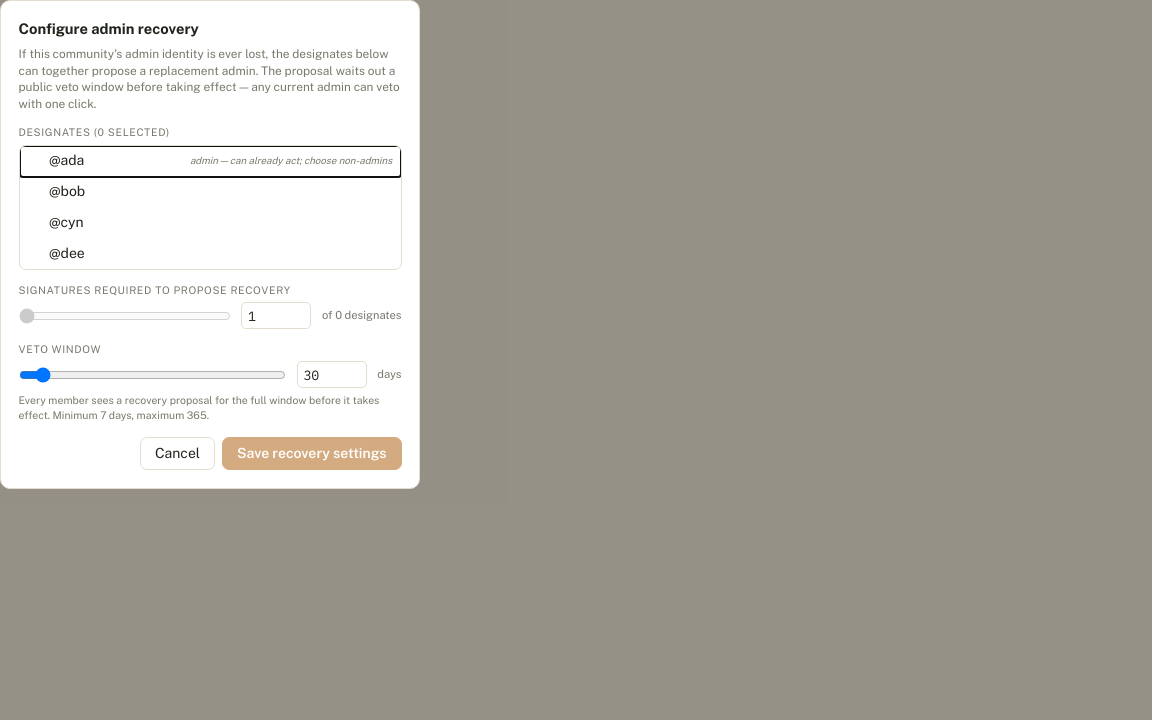
it: RecoveryConfigDialog › surfaces IPC rejection as an inline error and stays open
Click the option "@bob": {"x": 67, "y": 191} [20,177,400,208]
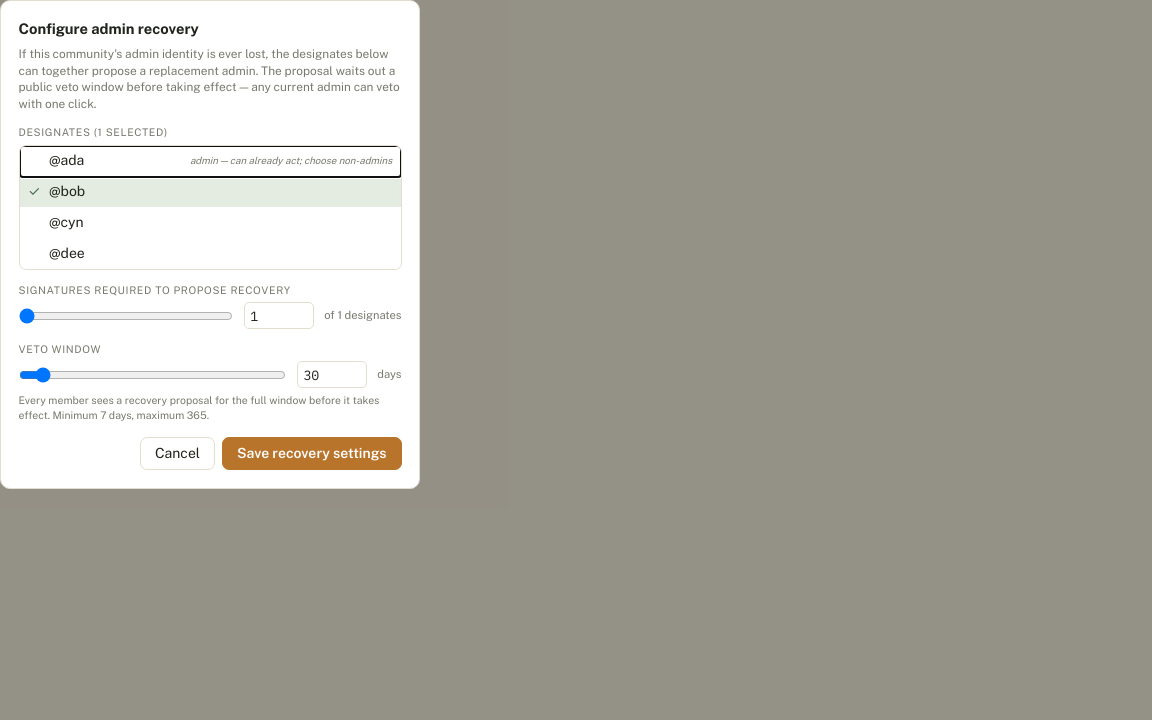
Click the button "Save recovery settings": {"x": 312, "y": 453} [222,437,402,470]
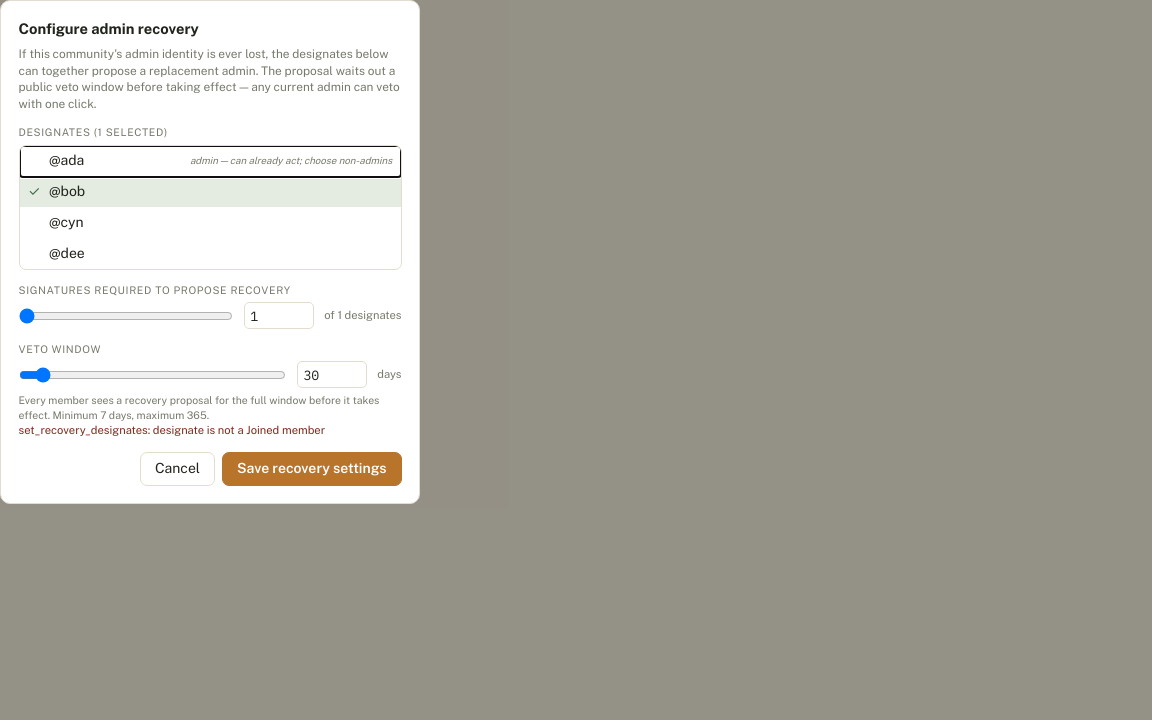
Now the message shows "not a Joined member", box [18,423,325,437]
